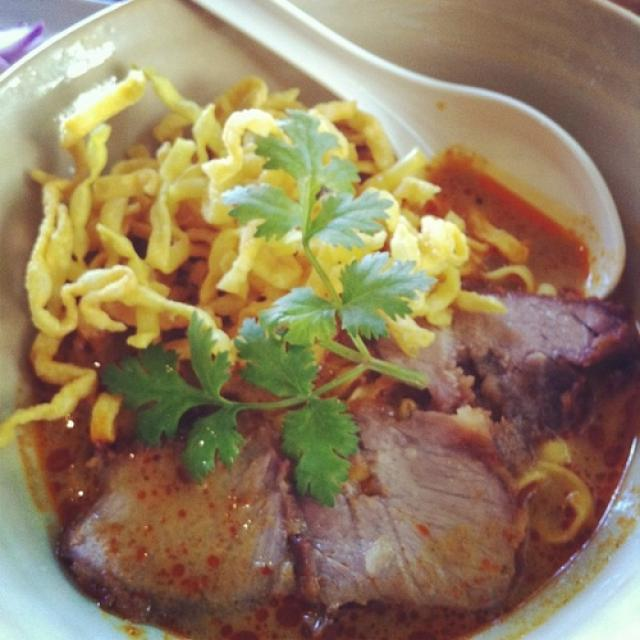面条主食: (13, 37, 609, 621)
